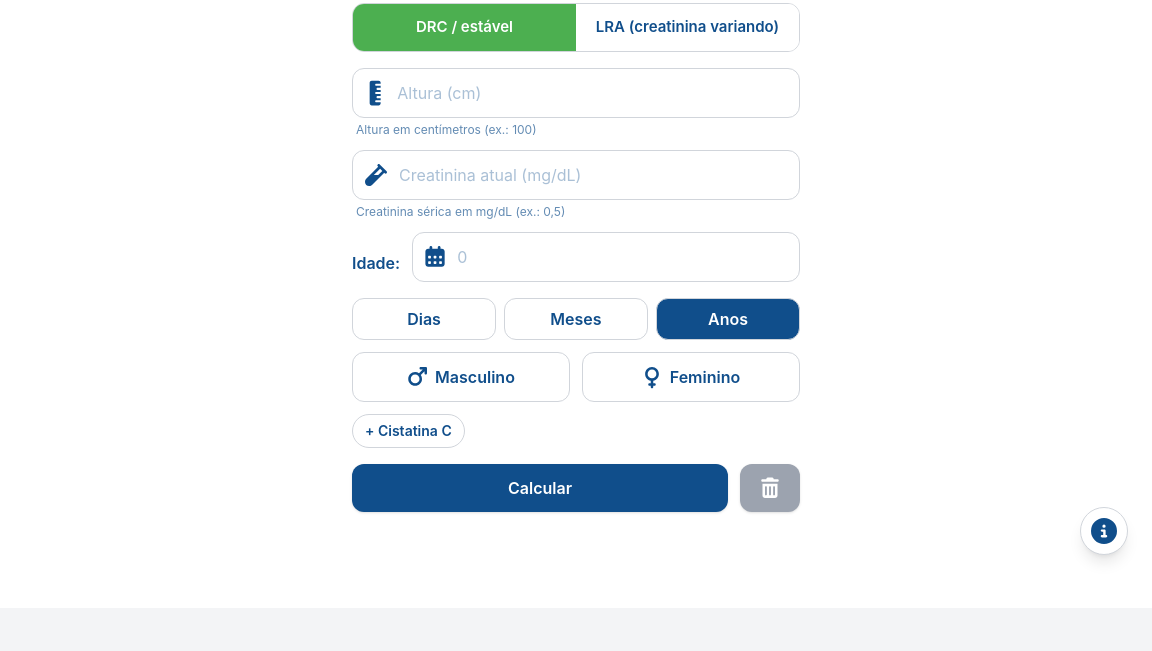
TFG Pediátrica (interface) › cistatina C opcional troca o método para creatinina + cistatina
In the field with placeholder "Altura (cm)": point(592, 92) [397,68,787,116], type "140"
In the field with placeholder "Creatinina atual (mg/dL)": point(593, 174) [399,150,787,198], type "0.6"
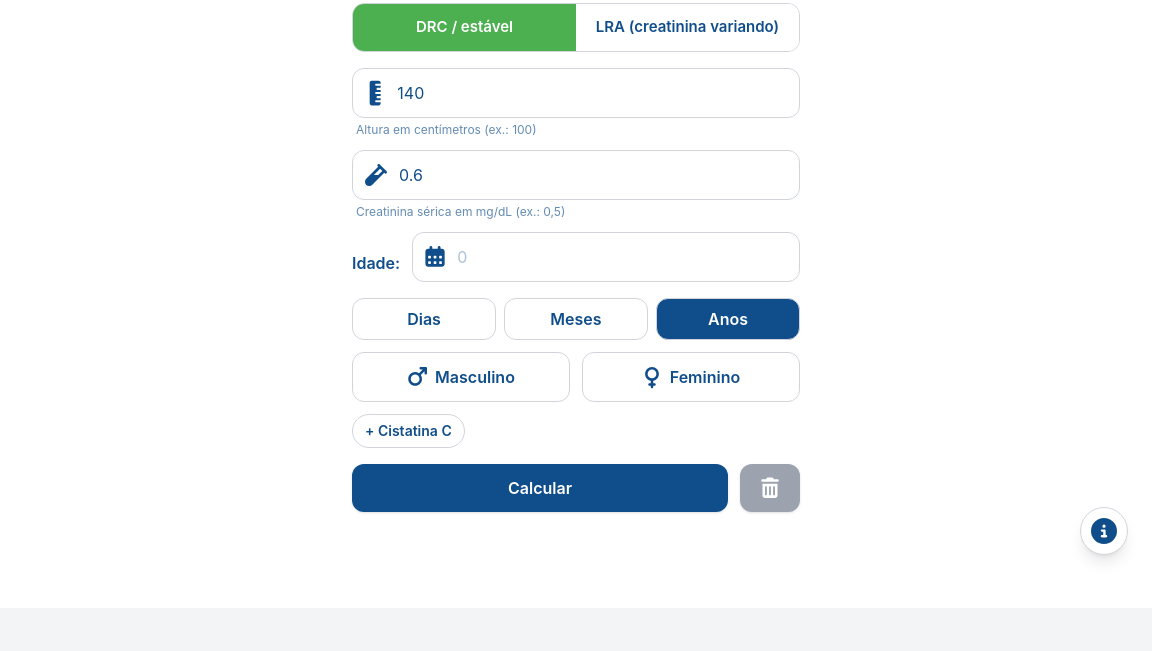
In the field named "Idade": point(622, 256) [457,232,787,280], type "10"
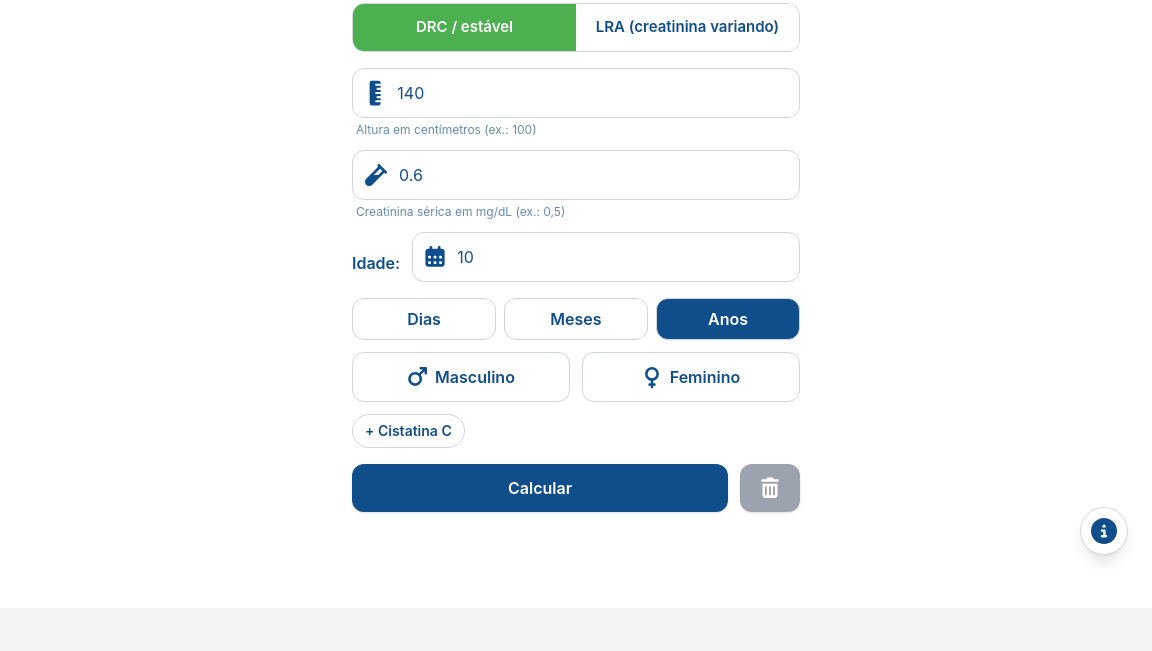
Click the button "Masculino": point(461, 376) [352,352,570,402]
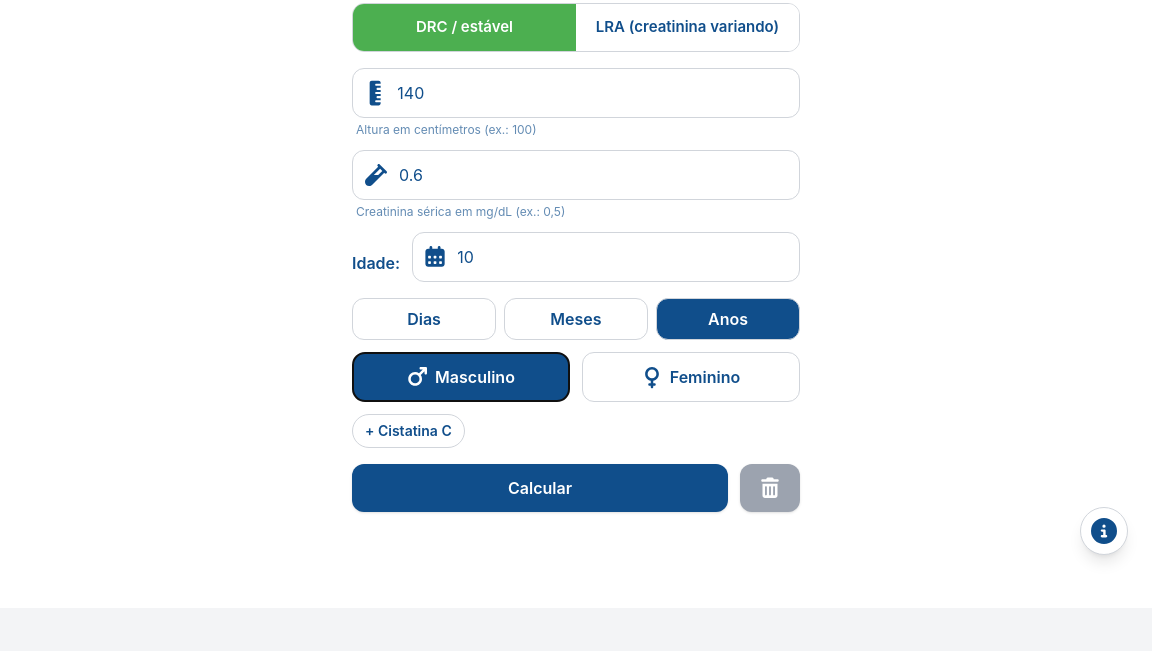
Click the button "+ Cistatina C": point(408, 430) [352,414,465,448]
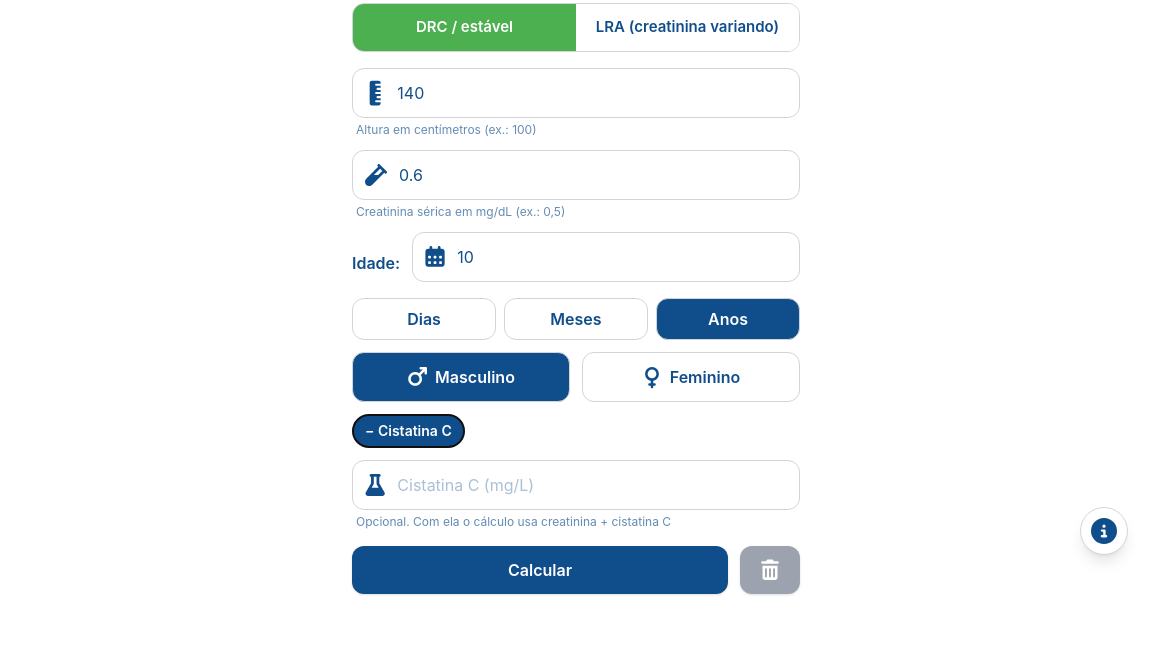
In the field with placeholder "Cistatina C (mg/L)": point(592, 484) [397,460,787,508], type "1"
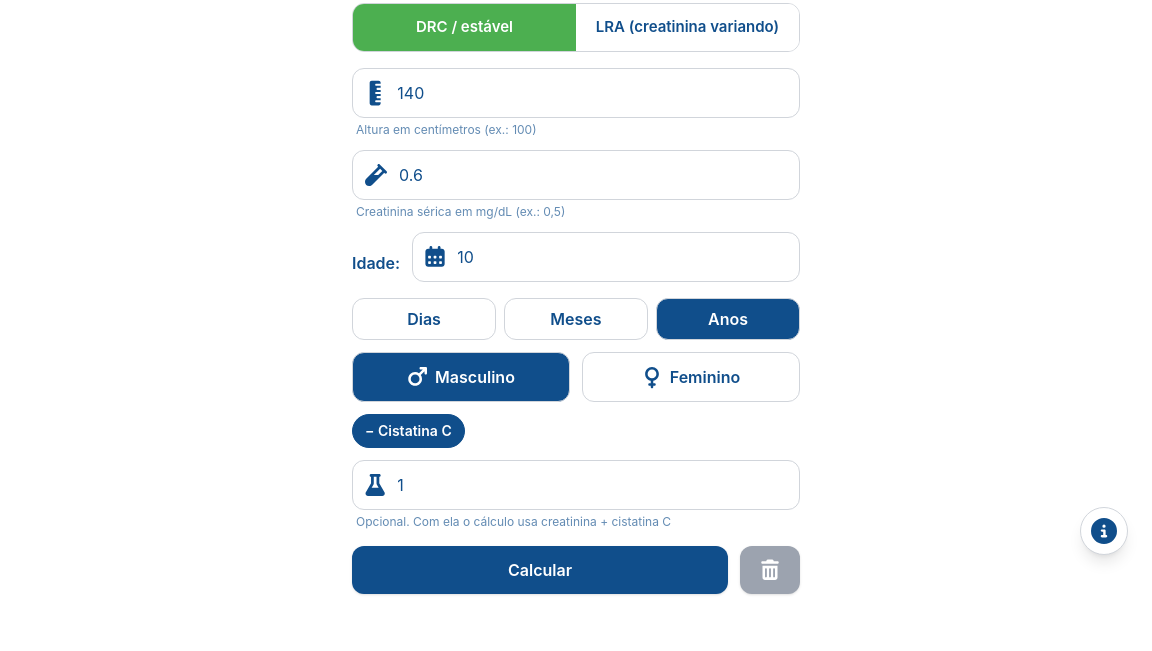
Click the button "Calcular": point(540, 570) [352,546,728,594]
(page scrolled)
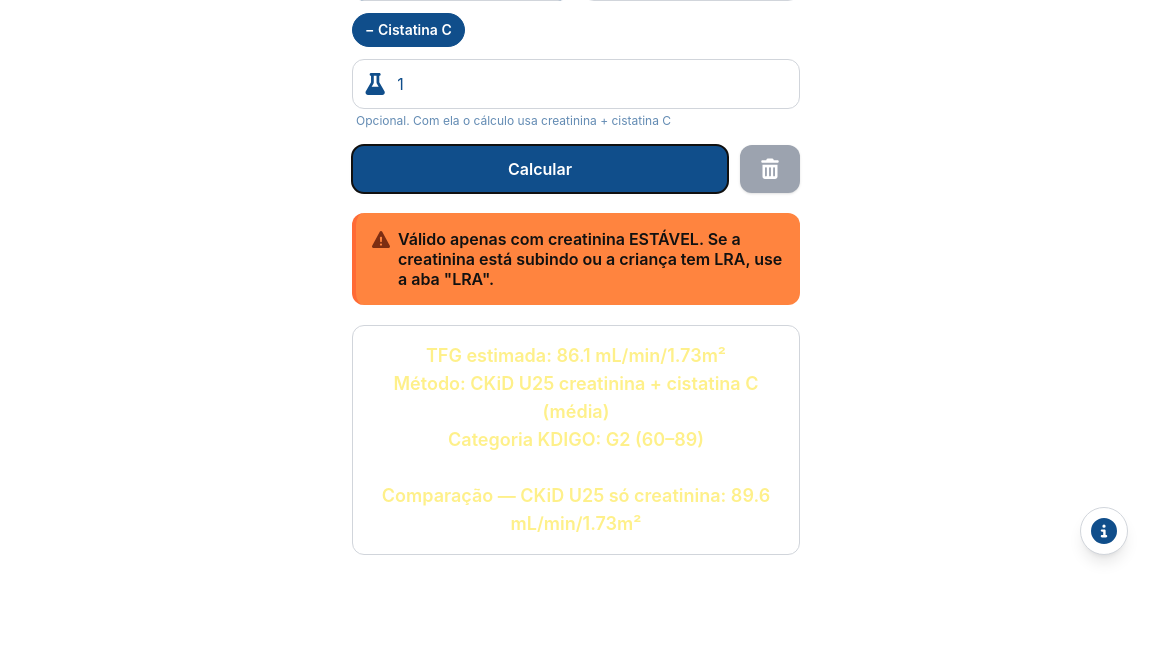
Result: the 2nd message shows "creatinina + cistatina C" at [382,344,770,534]
